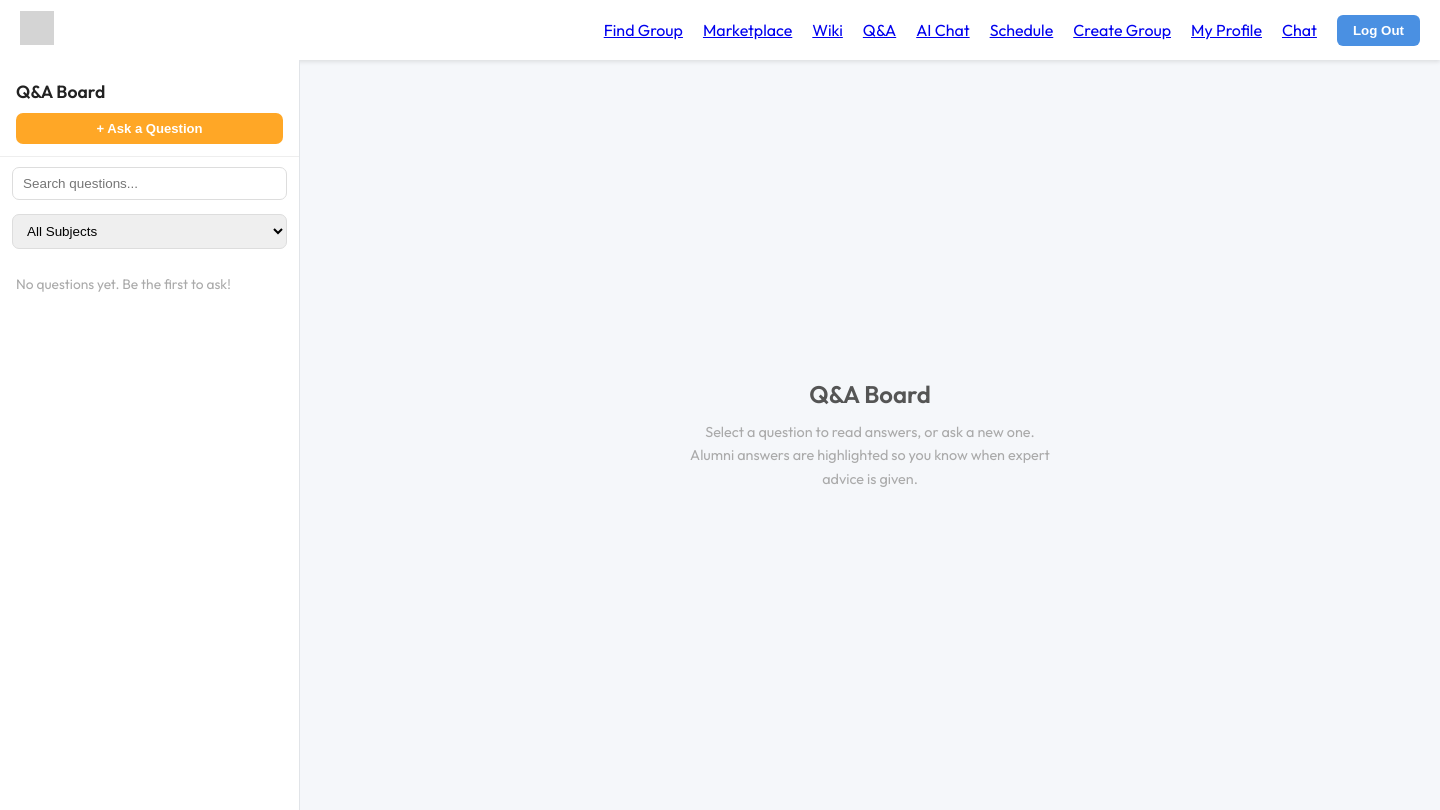
Test: QABoard page › AI Suggest button is disabled when body is empty
The width and height of the screenshot is (1440, 810).
Click the button "+ Ask a Question": (150, 128) [16,113,283,144]
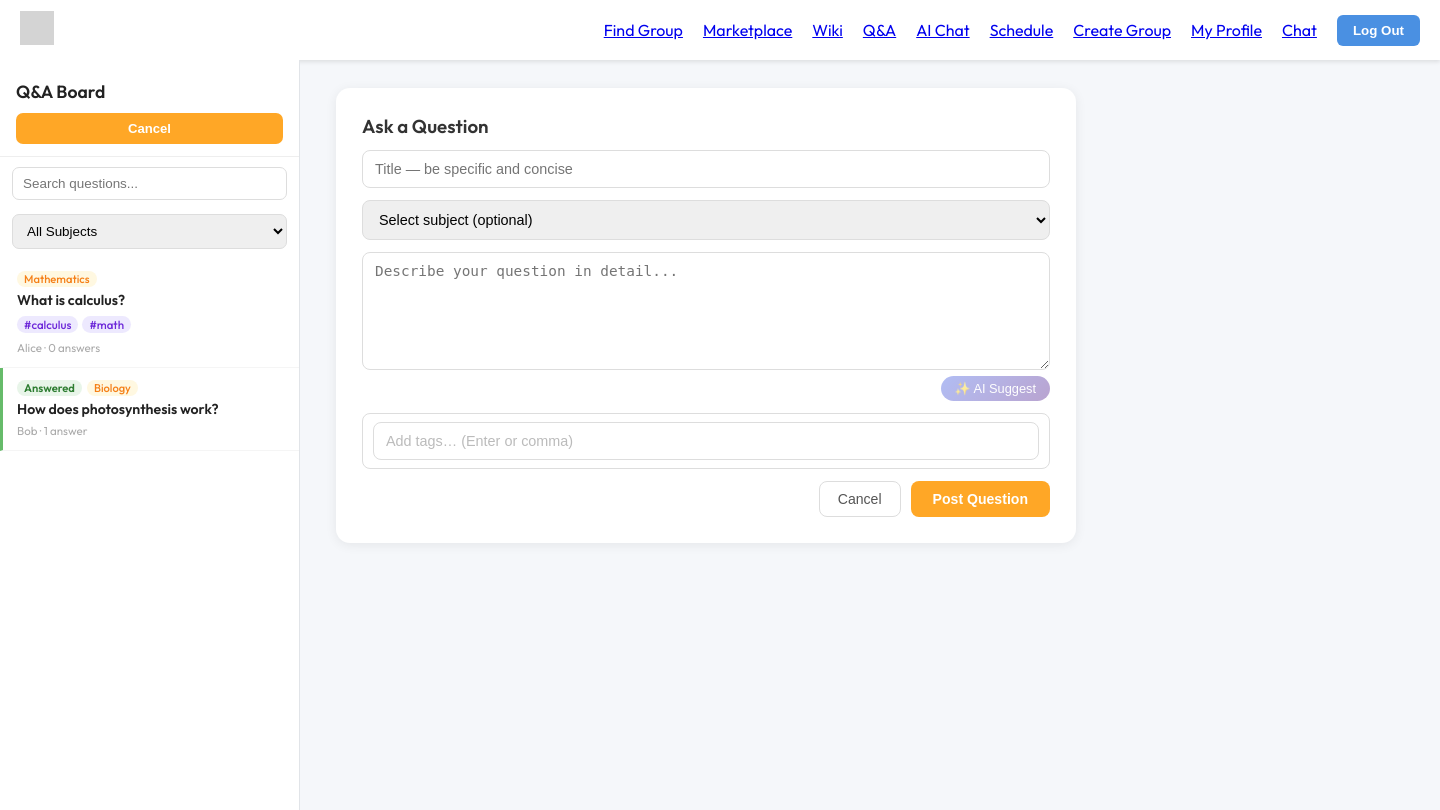
Now the button titled "auto-suggest" is disabled, box [941,376,1050,401]
